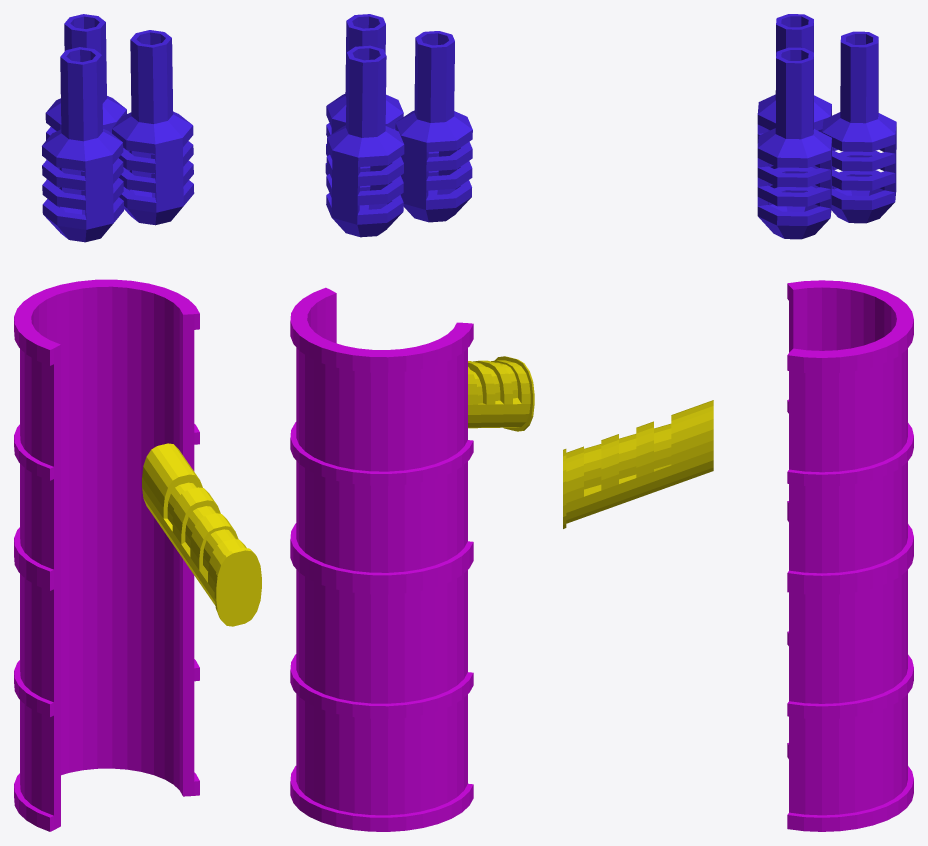
The model's file is escopeta_Mejoras.fbx.
The picture shows the model from 3 angles, left to right: view 1: azimuth 30°, elevation 25°; view 2: azimuth 150°, elevation 25°; view 3: azimuth 270°, elevation 25°; orthographic projection.
Parts seen in each view (by area): view 1: mejoras1, mejora3, mejoras2; view 2: mejoras1, mejora3, mejoras2; view 3: mejoras1, mejora3, mejoras2.
Part boxes in pixels (bbox=[...]): mejoras1: bbox=[14, 279, 199, 831]; mejora3: bbox=[42, 14, 194, 242]; mejoras2: bbox=[142, 443, 261, 626]; mejoras1: bbox=[290, 287, 473, 831]; mejora3: bbox=[325, 14, 472, 237]; mejoras2: bbox=[468, 356, 534, 431]; mejoras1: bbox=[787, 280, 913, 831]; mejora3: bbox=[757, 14, 896, 239]; mejoras2: bbox=[563, 400, 713, 528].
Size of the model in its own units: 356 by 1606 by 679.
